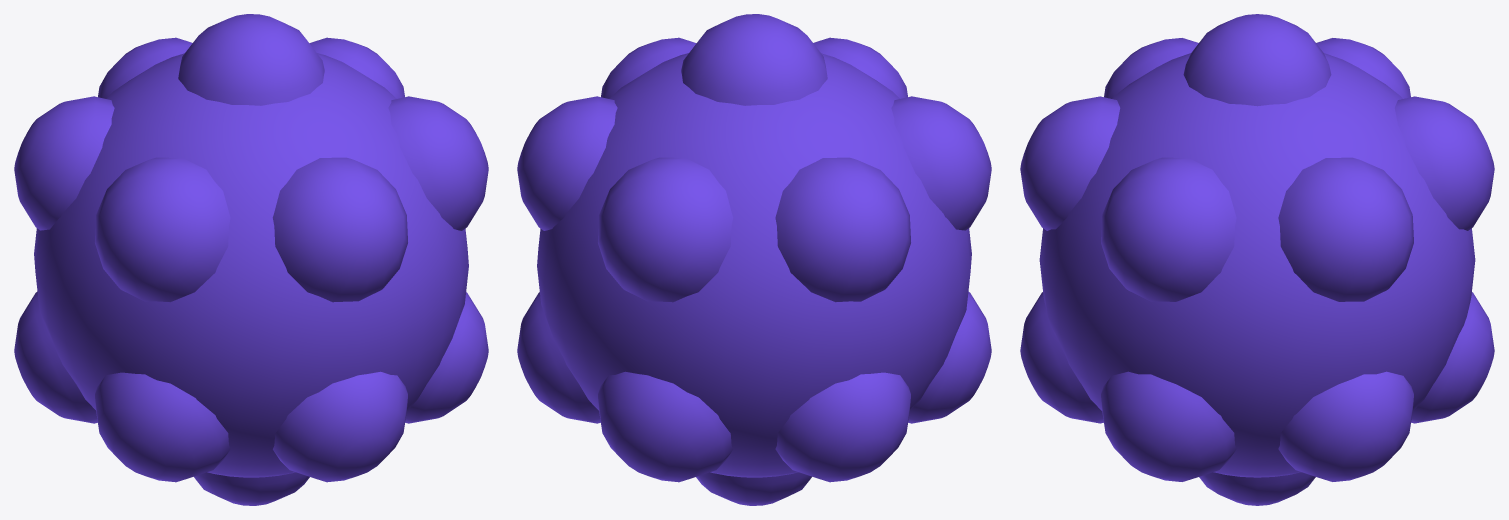
The model's file is ball.fbx.
3 views of the same model, side by side, from view 1: azimuth 30°, elevation 25°; view 2: azimuth 150°, elevation 25°; view 3: azimuth 270°, elevation 25° (orthographic).
Parts seen in each view (by area): view 1: Katamari Ball; view 2: Katamari Ball; view 3: Katamari Ball.
Part boxes in pixels (x1,y1,x2,y2): Katamari Ball: [14, 14, 488, 505]; Katamari Ball: [517, 14, 991, 505]; Katamari Ball: [1020, 14, 1494, 505].
Bounding box in the file's own units: 205 × 248 × 223.
